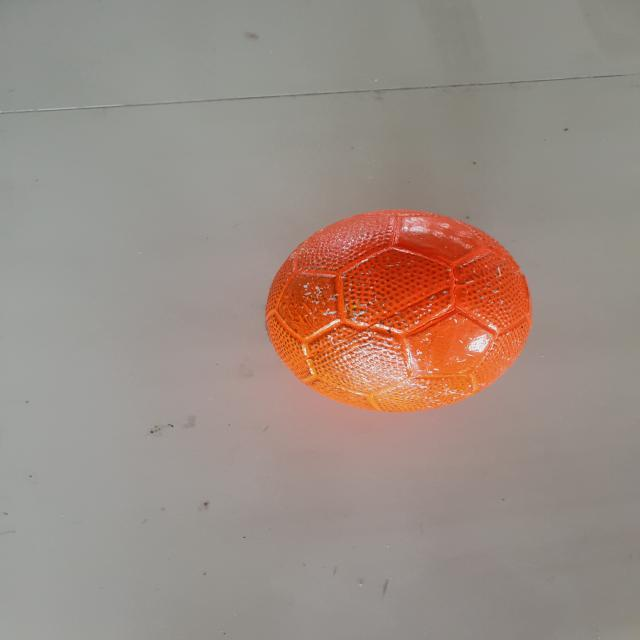bola: (248, 200, 546, 424)
